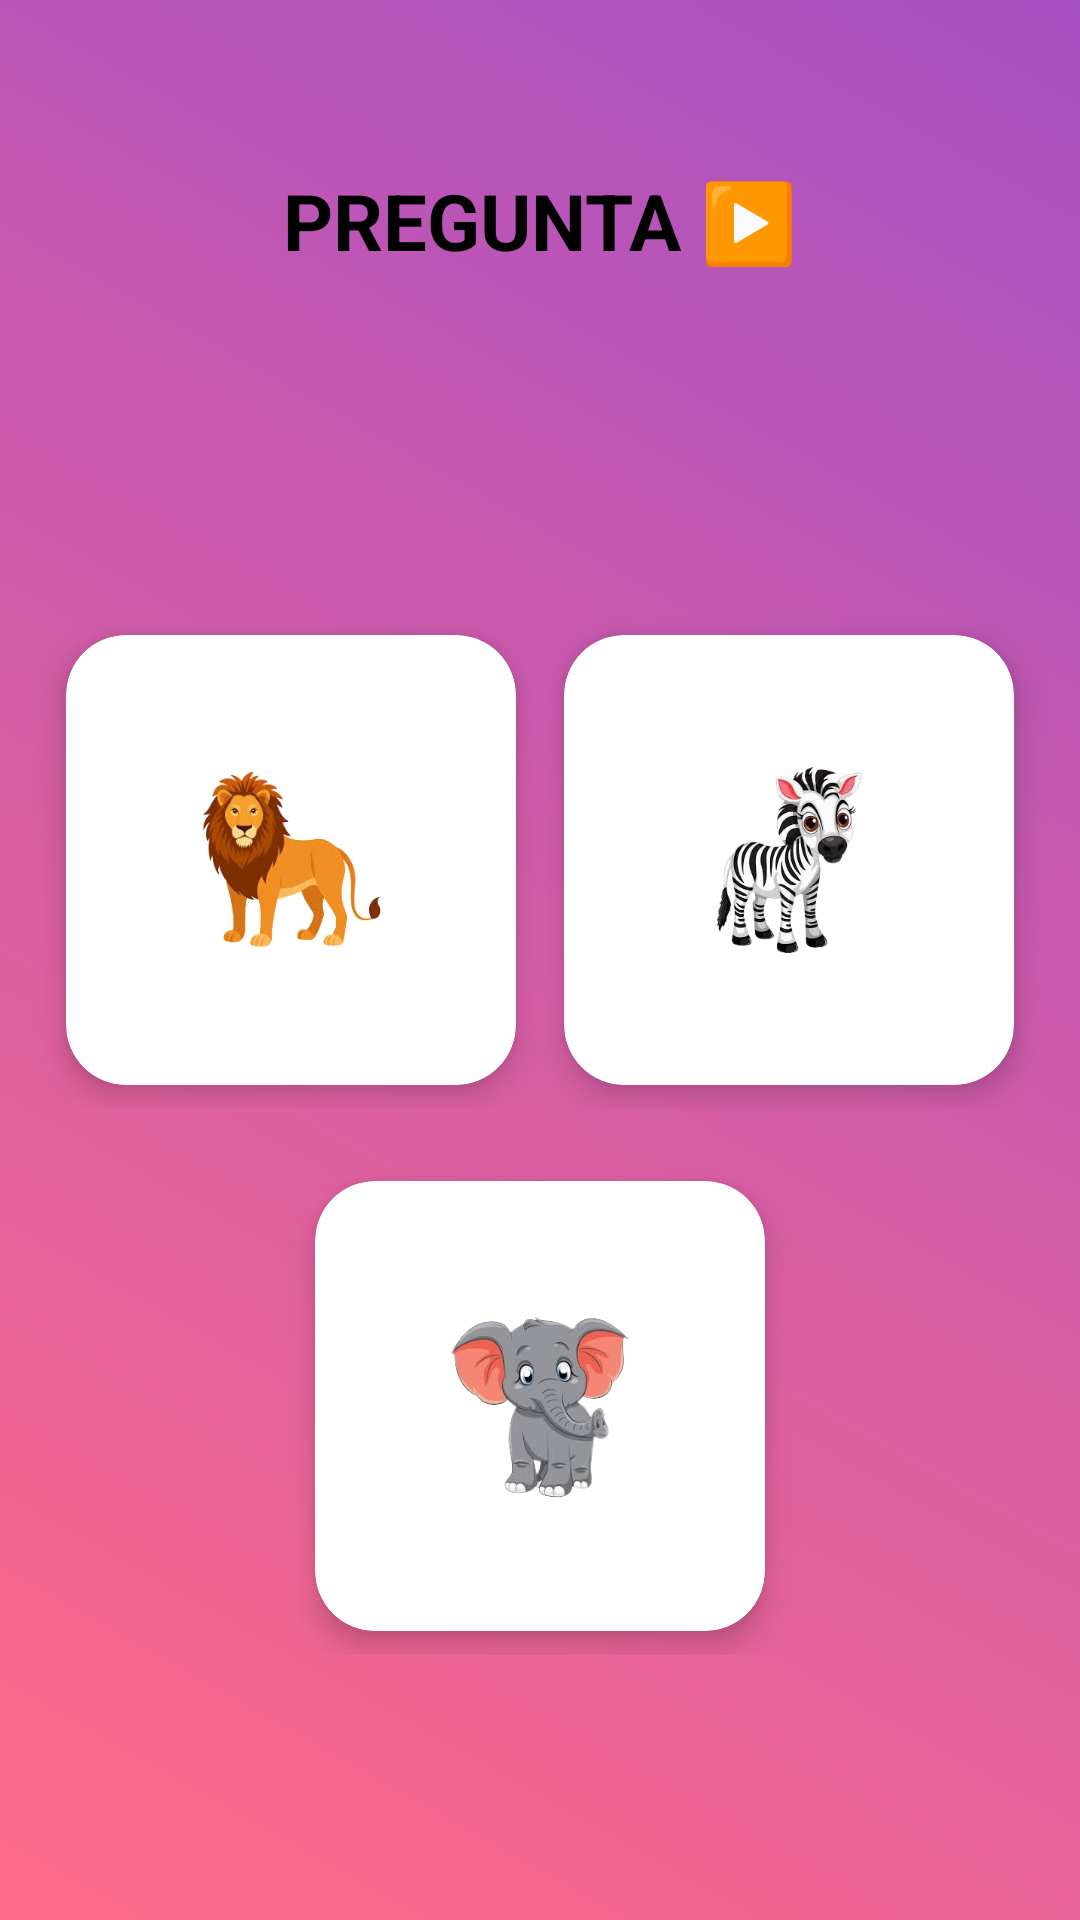

Point at icon controls on the screen. Image size 1080×1920, points as point (x, y).
Animales: point (292, 859)
